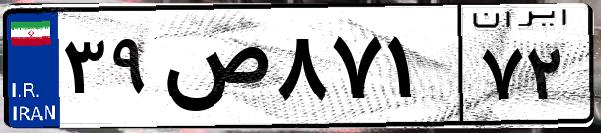1: (385, 28, 445, 110)
2: (525, 38, 570, 115)
3: (57, 26, 110, 100)
7: (330, 28, 385, 110), (475, 38, 525, 113)
8: (270, 28, 330, 110)
9: (110, 28, 158, 98)
ص: (158, 20, 270, 120)
